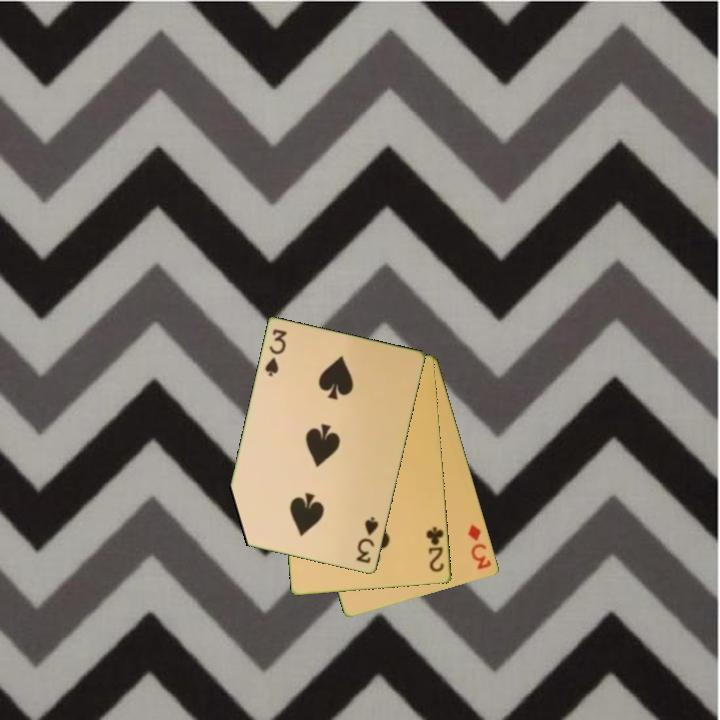2c: (423, 523, 447, 575)
3d: (464, 521, 494, 573)
3s: (353, 513, 382, 566), (261, 326, 290, 379)
